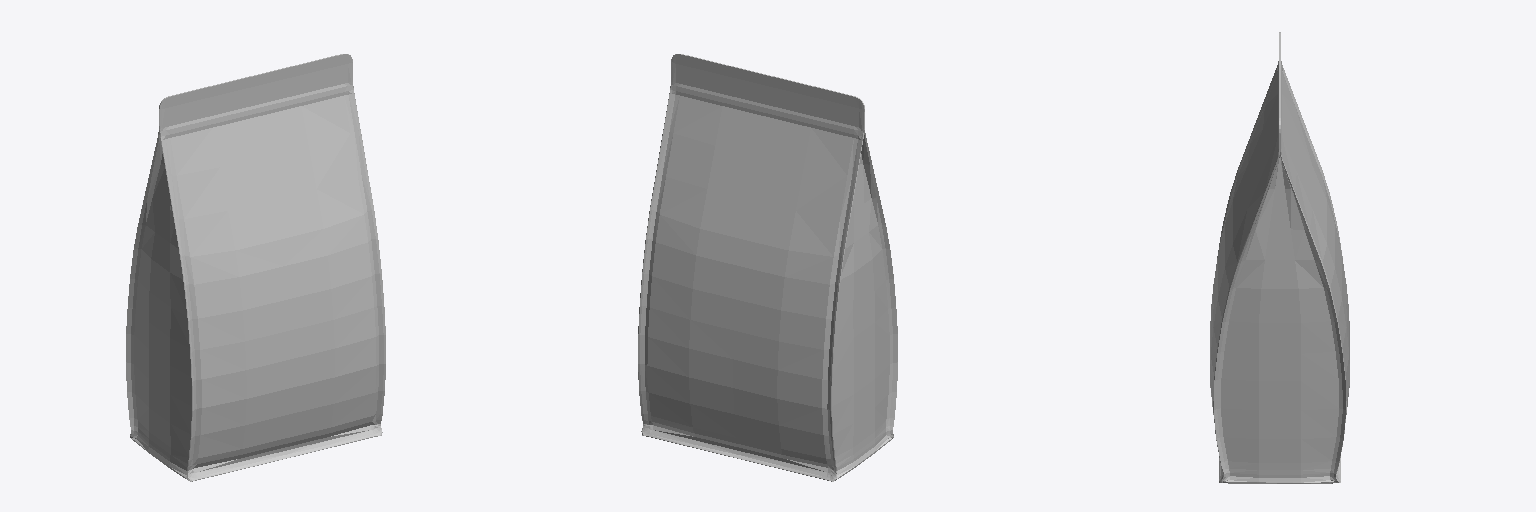
Rendered from Costales.obj.
3 renders of one model, left to right at view 1: azimuth 30°, elevation 25°; view 2: azimuth 150°, elevation 25°; view 3: azimuth 270°, elevation 25°, orthographic.
Parts seen in each view (by area): view 1: Costal_ADULTO; view 2: Costal_ADULTO; view 3: Costal_ADULTO.
Boxes of the visible parts, x1=… form: Costal_ADULTO: x1=126, y1=54, x2=385, y2=481; Costal_ADULTO: x1=638, y1=54, x2=897, y2=481; Costal_ADULTO: x1=1210, y1=32, x2=1349, y2=483.
Size of the model in its own units: 0.2341 by 0.414 by 0.1451.